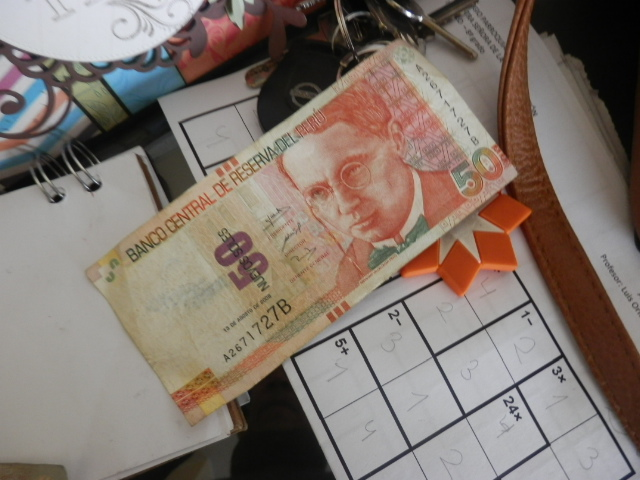B50: (104, 50, 513, 417)
